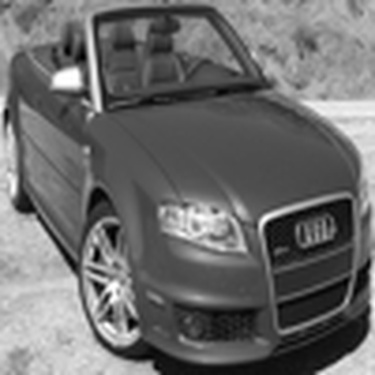car: (1, 14, 369, 371)
